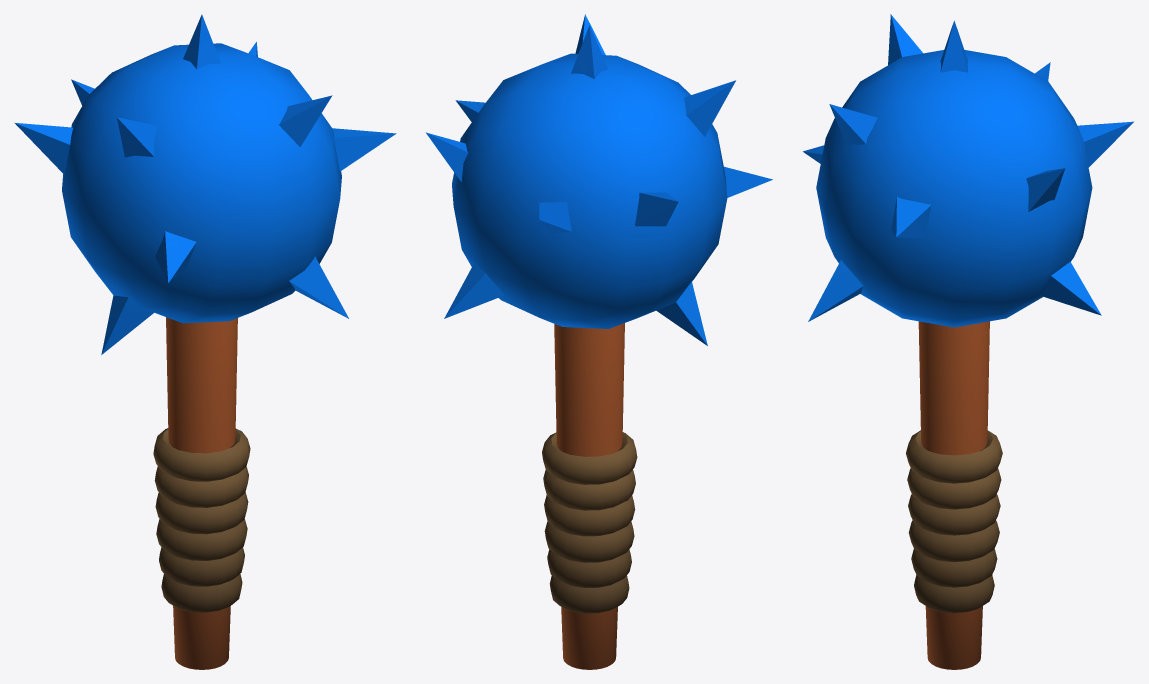
The model's file is spikedMace.fbx.
The picture shows the model from 3 angles, left to right: view 1: azimuth 30°, elevation 25°; view 2: azimuth 150°, elevation 25°; view 3: azimuth 270°, elevation 25°; orthographic projection.
Parts seen in each view (by area): view 1: Cube; view 2: Cube; view 3: Cube.
Boxes of the visible parts, x1,y1,x2,y2 form: Cube: (14,14,396,669); Cube: (425,14,772,669); Cube: (803,14,1133,669).
Size of the model in its own units: 3.18 by 6.43 by 3.03.
1 material, 1 textured.
